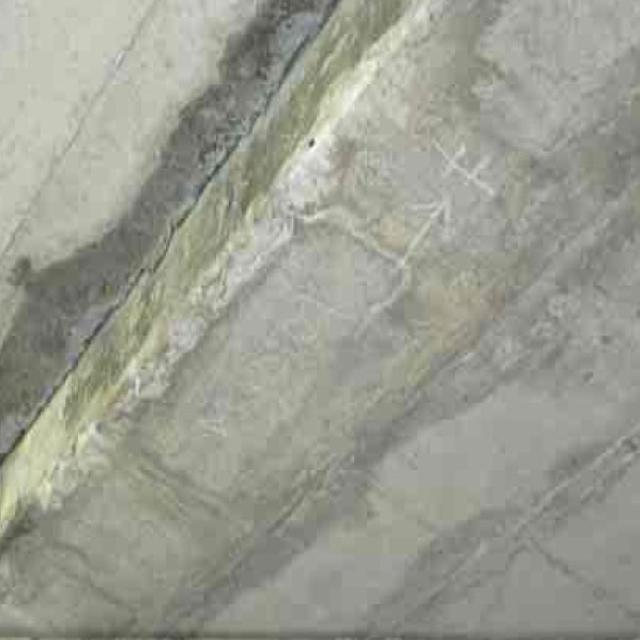freelime: (9, 13, 407, 538)
